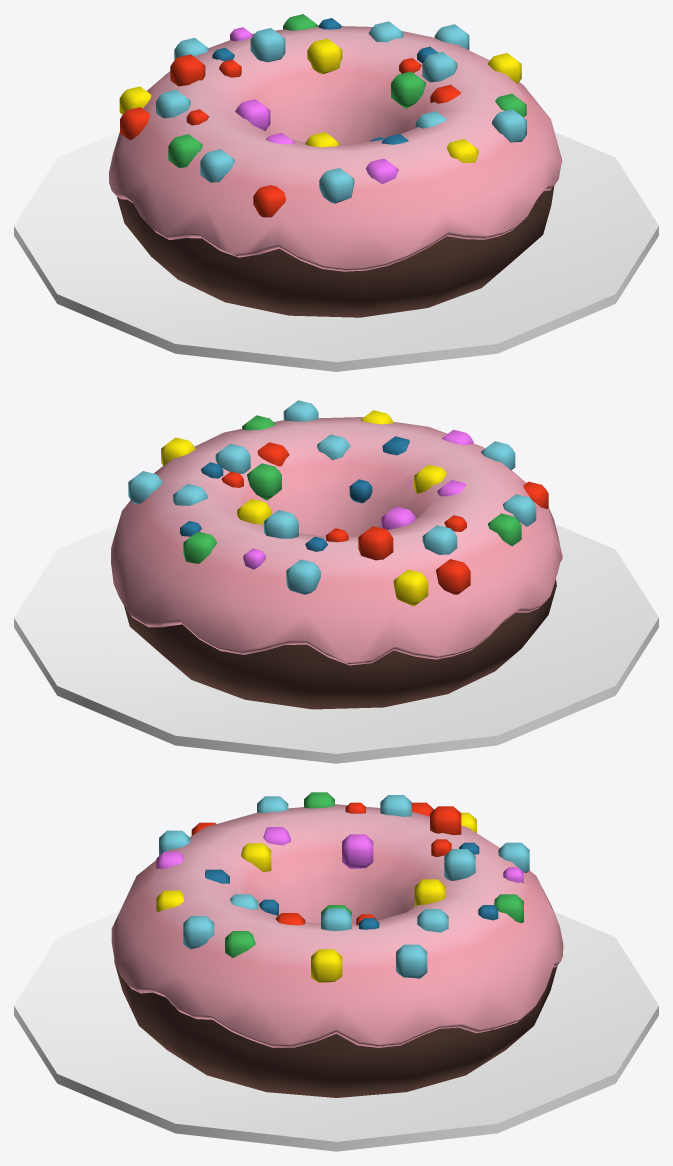
Rendered from DonutStrawberry.fbx.
3 views of the same model, one above another, from view 1: azimuth 30°, elevation 25°; view 2: azimuth 150°, elevation 25°; view 3: azimuth 270°, elevation 25° (orthographic).
Parts seen in each view (by area): view 1: Map02_Donut_LV4; view 2: Map02_Donut_LV4; view 3: Map02_Donut_LV4.
Part boxes in pixels (x1=…): Map02_Donut_LV4: x1=14, y1=14, x2=658, y2=371; Map02_Donut_LV4: x1=14, y1=400, x2=658, y2=763; Map02_Donut_LV4: x1=14, y1=792, x2=658, y2=1151.
Bounding box in the file's own units: 105 × 36.48 × 105.
